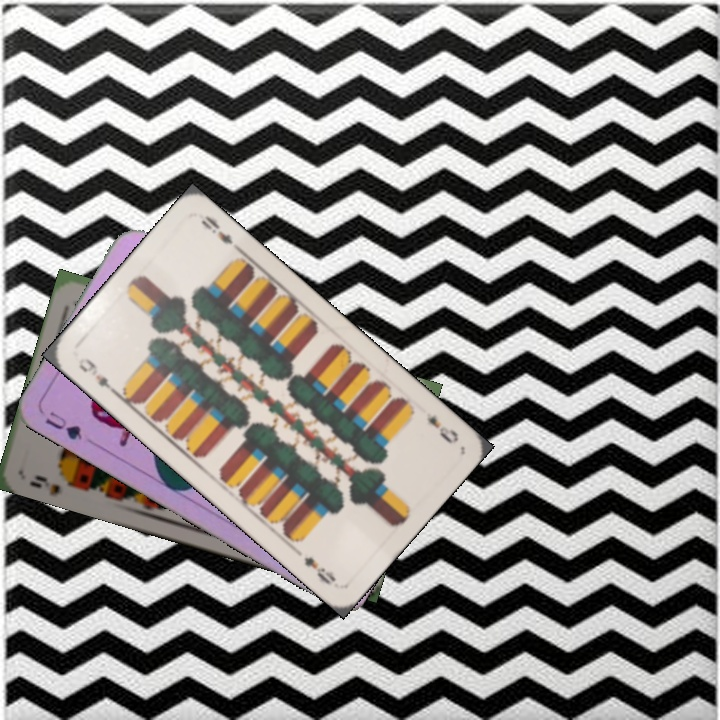E9: (74, 353, 121, 398), (422, 408, 462, 447)
GU: (41, 407, 85, 443)
S9: (25, 470, 81, 497)
